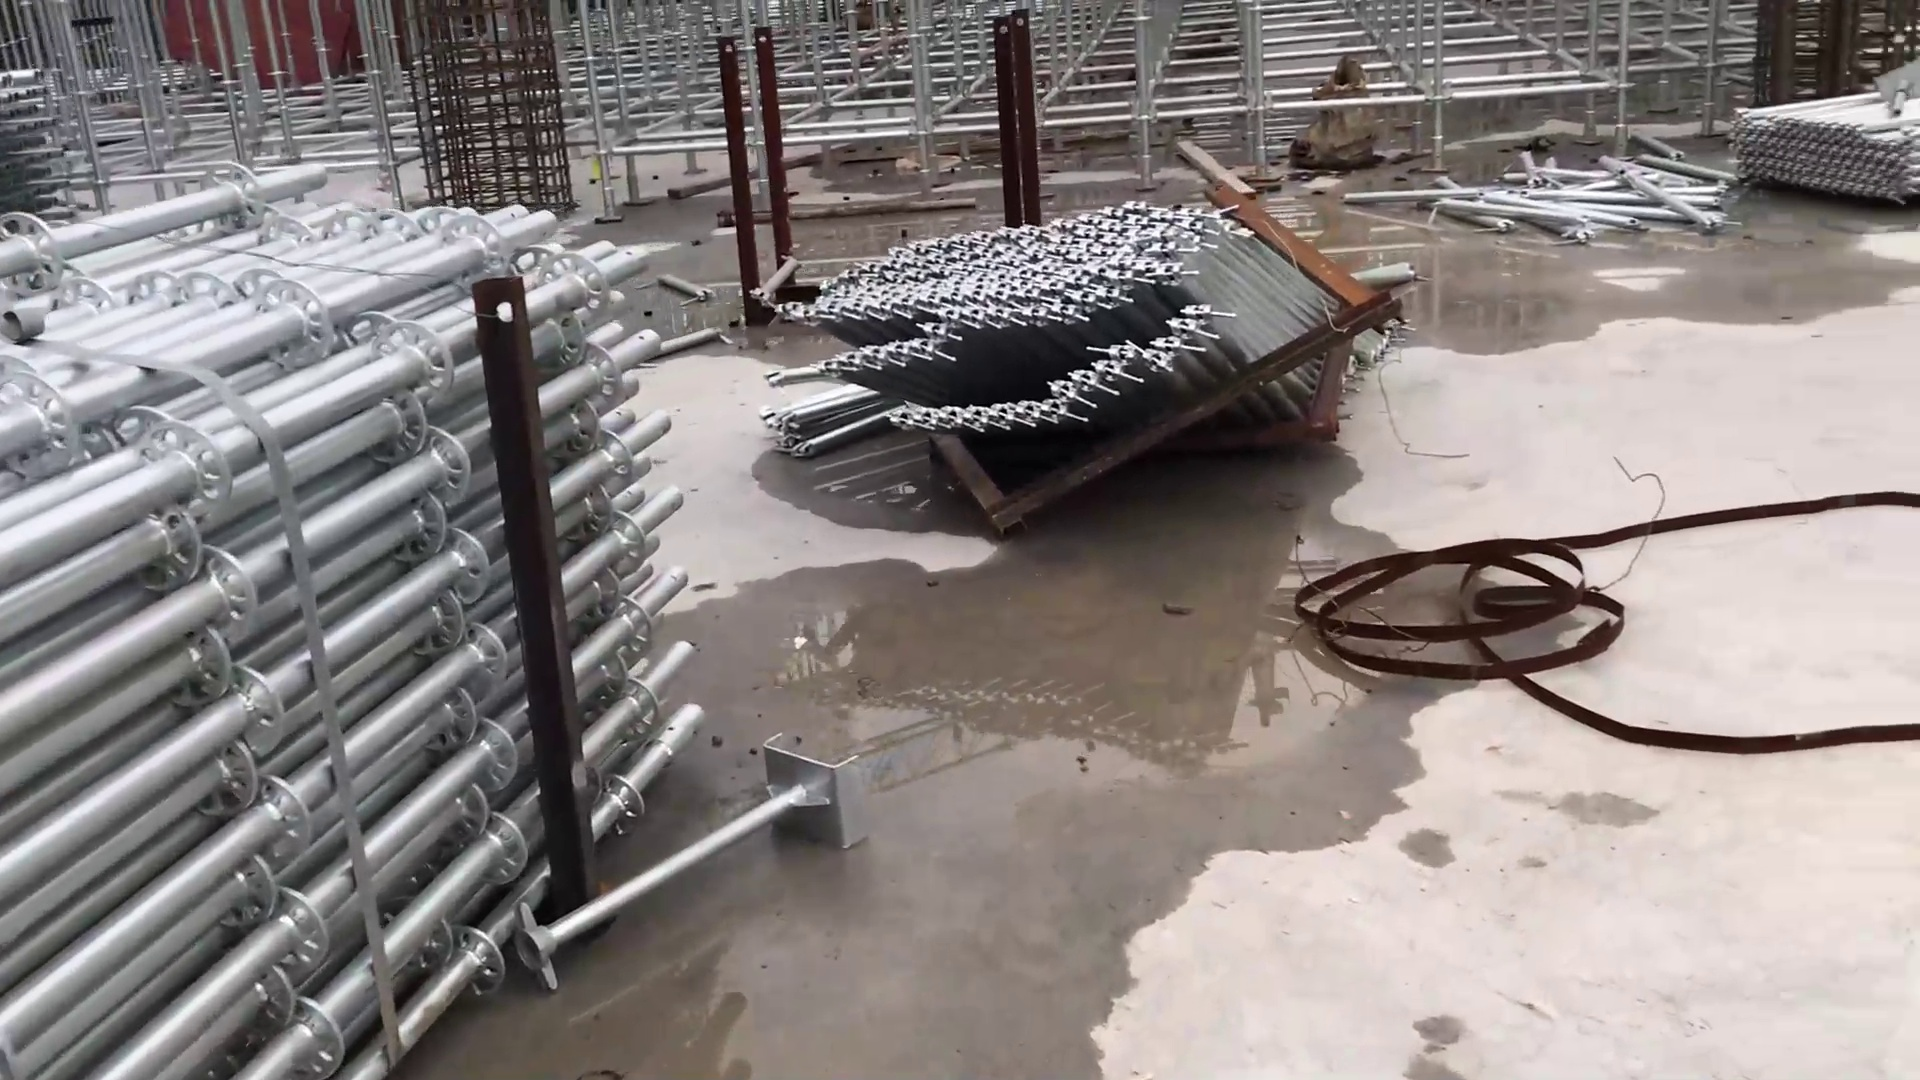scaffold: (3, 175, 684, 1080), (819, 208, 1364, 472), (1725, 94, 1920, 214)
